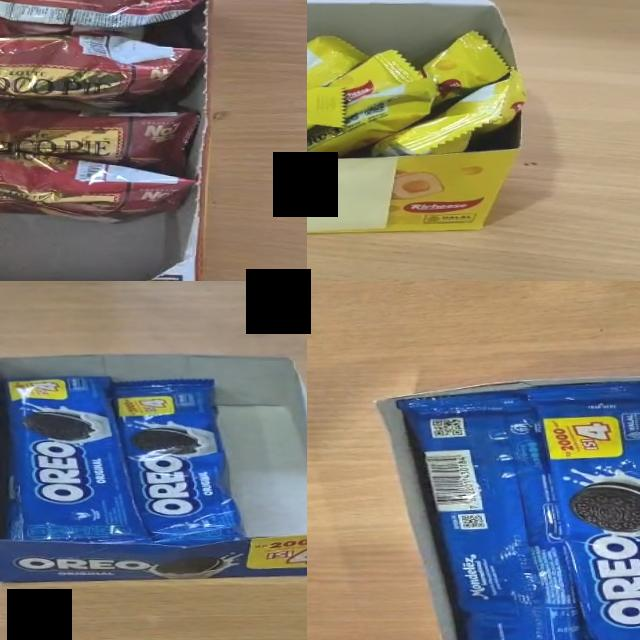Ahh: (368, 64, 528, 159), (307, 73, 440, 160), (419, 28, 513, 110), (307, 30, 369, 142), (322, 47, 426, 110)
Chocopie: (0, 91, 201, 170), (0, 31, 207, 105), (0, 150, 198, 224), (0, 0, 204, 29)
Oreo: (390, 386, 593, 640), (522, 378, 640, 640), (2, 372, 156, 544), (110, 376, 249, 546)
